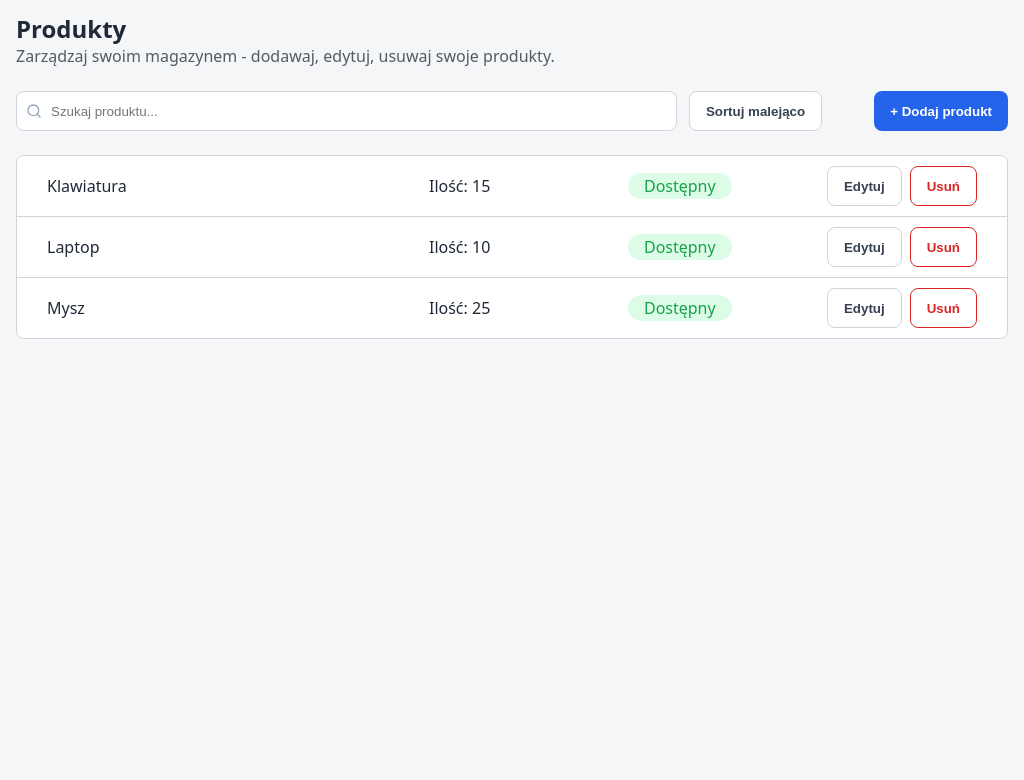
it: closes the panel and deletes the product after confirmation
Step 1. Click the button "Usuń" in the row of "Laptop" → (943, 247), box [910, 227, 977, 267]
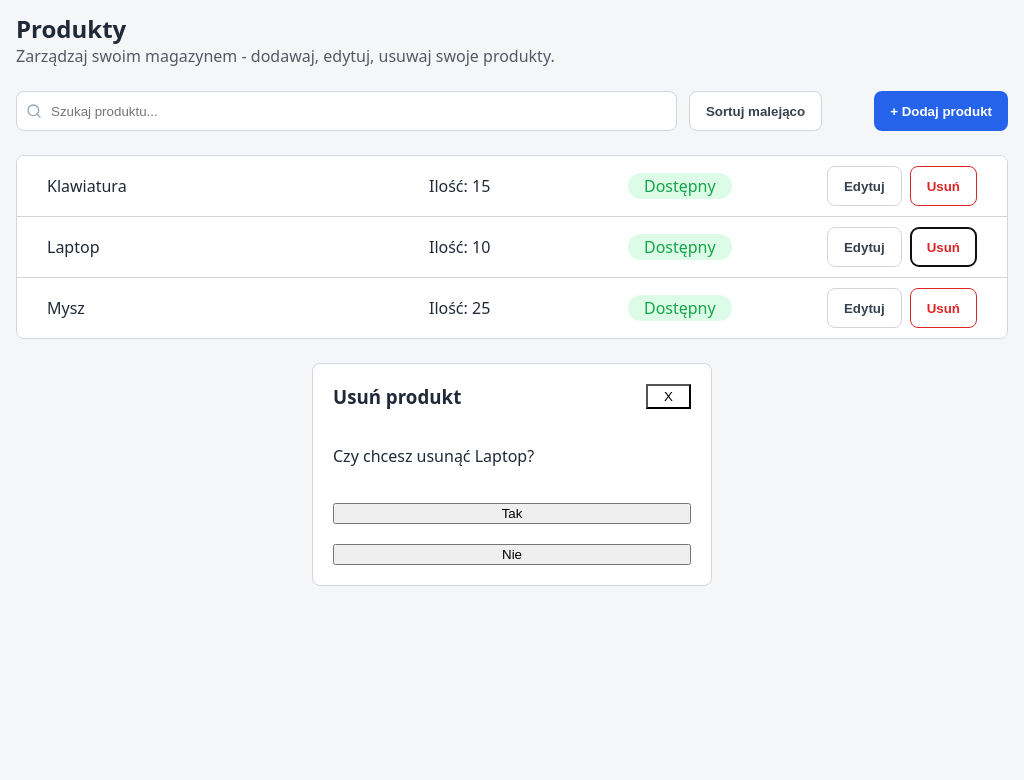
Step 2. Click the button "Tak" → (512, 514), box [333, 503, 691, 524]
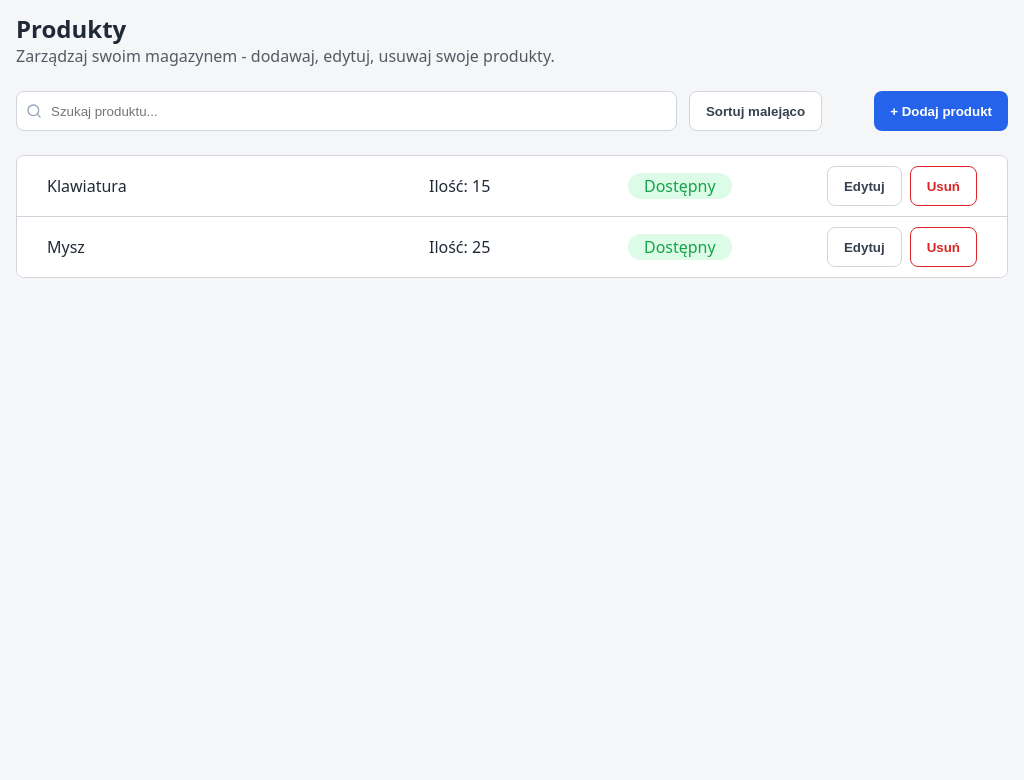
Expected: the text "Mysz" is shown, [47, 236, 85, 258]
Expected: the heading "Usuń produkt" is gone
Expected: the text "Laptop" is gone
